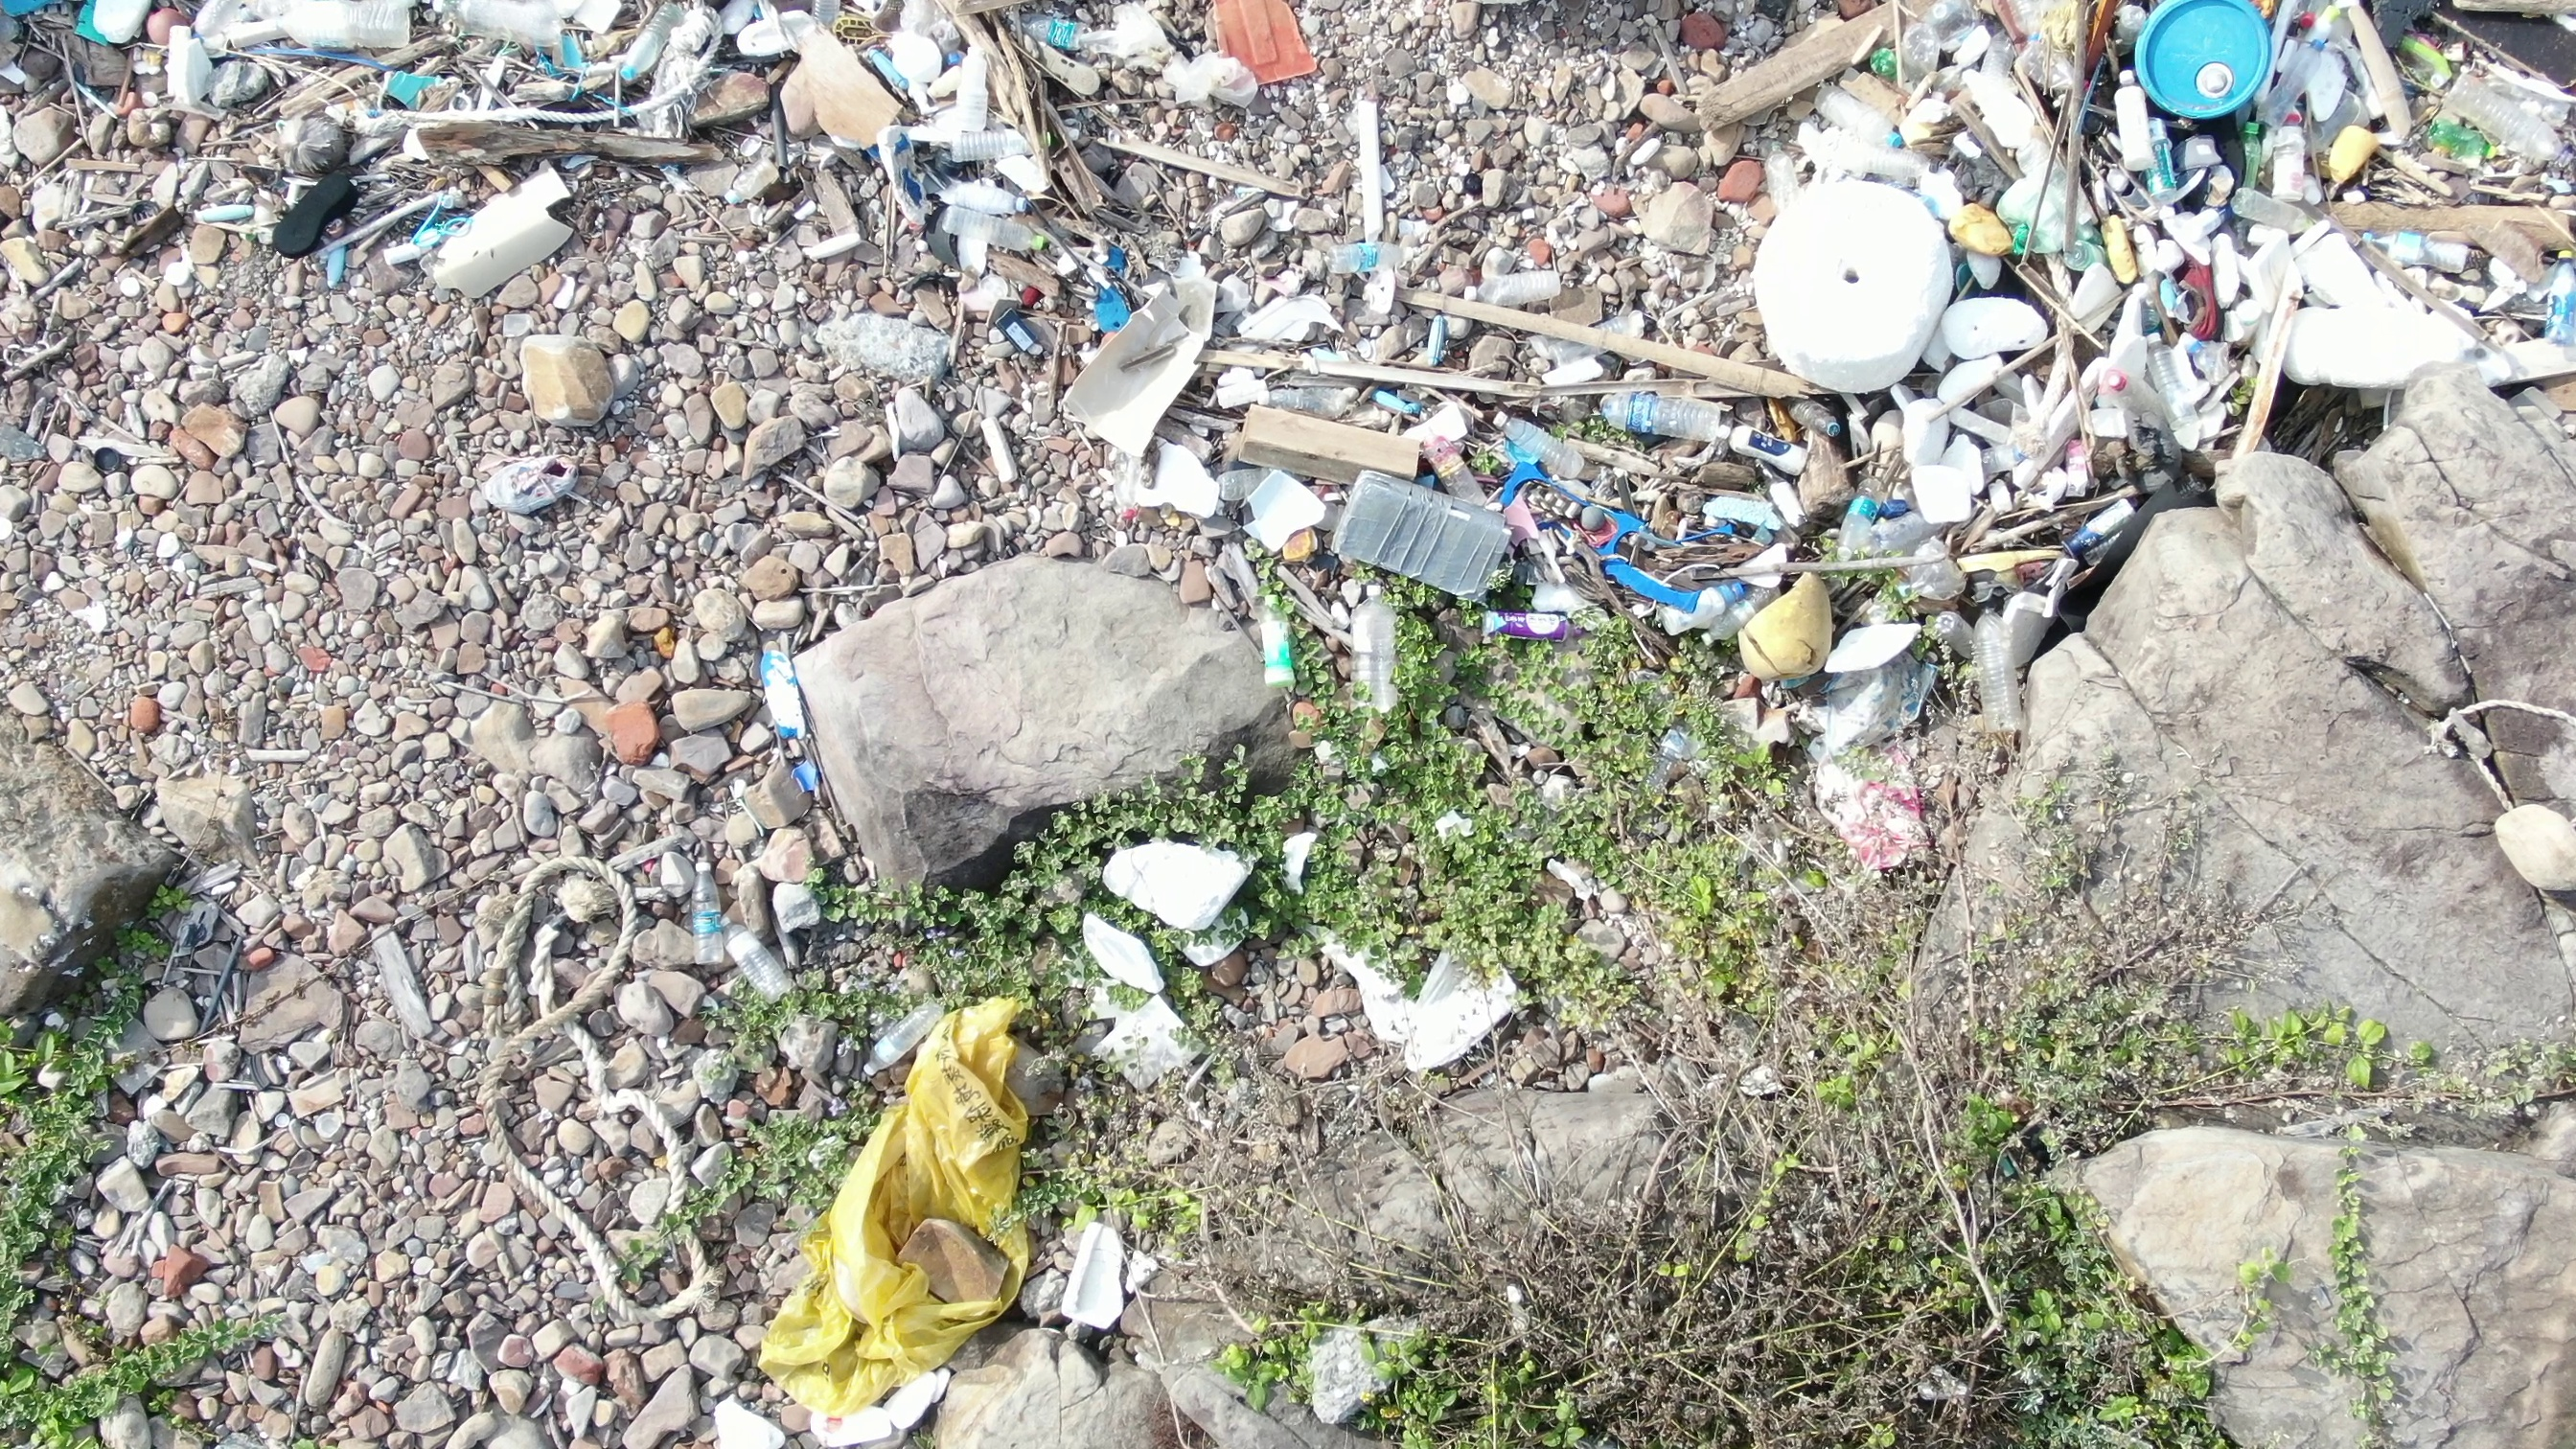bottle: (587, 2, 704, 99), (1345, 568, 1422, 709), (1269, 221, 1419, 290), (1592, 380, 1739, 448), (1249, 573, 1306, 694), (931, 113, 1051, 165), (685, 840, 727, 962)
garbage: (1051, 242, 2045, 697), (2, 2, 1293, 303), (1709, 19, 2576, 439), (727, 962, 1062, 1422), (1074, 817, 1573, 1088), (674, 628, 832, 984), (2394, 665, 2576, 901), (1789, 685, 1982, 893)
